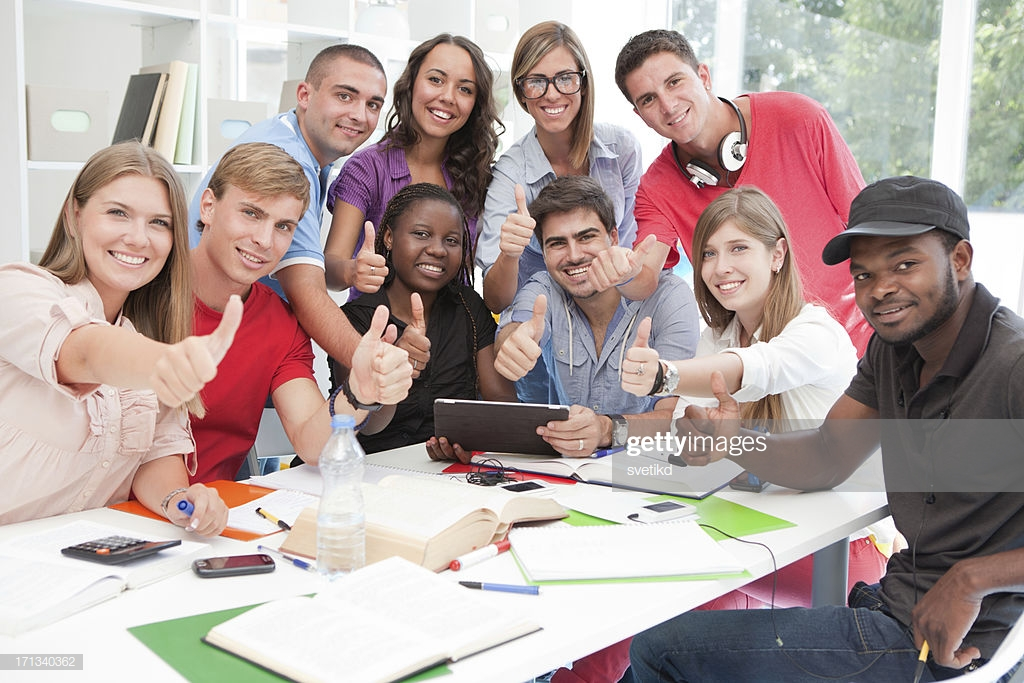thumbsup: (152, 292, 245, 409), (362, 303, 414, 404), (492, 294, 548, 382), (586, 233, 657, 293), (620, 316, 655, 398), (498, 183, 536, 255), (353, 220, 389, 295), (406, 291, 433, 378)
